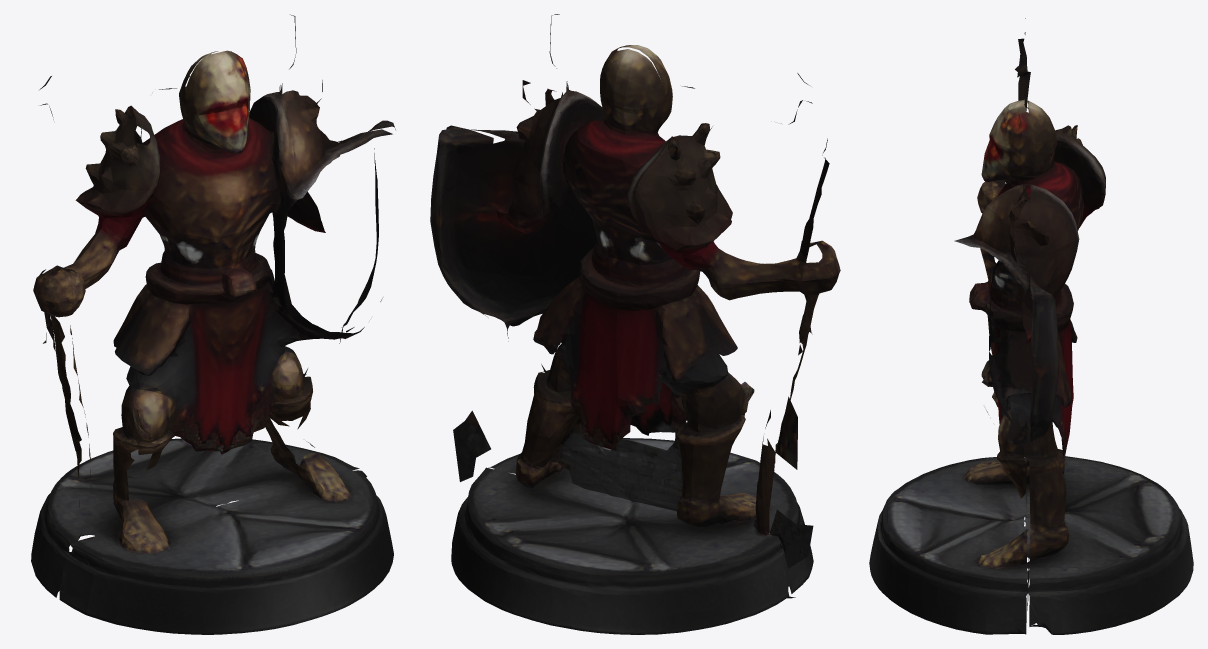
3 views of the same model, side by side, from view 1: azimuth 30°, elevation 25°; view 2: azimuth 150°, elevation 25°; view 3: azimuth 270°, elevation 25° (orthographic). The views are drawn at different scales.
Parts seen in each view (by area): view 1: bP.glb; view 2: bP.glb; view 3: bP.glb.
Part boxes in pixels (box(x1,y1,x2,y2)): bP.glb: box(31, 14, 395, 634); bP.glb: box(430, 14, 840, 634); bP.glb: box(869, 18, 1193, 634).
Bounding box in the file's own units: 0.422 × 0.5505 × 0.3333.
1 material, 1 textured.
